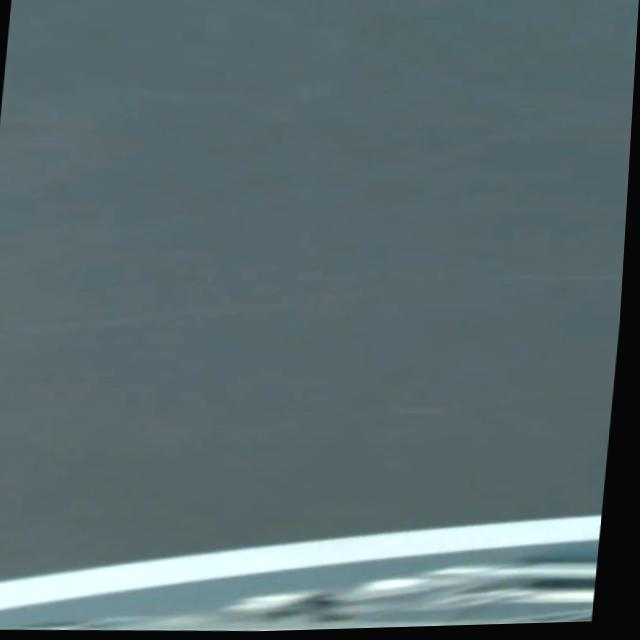left: (0, 514, 601, 610)
